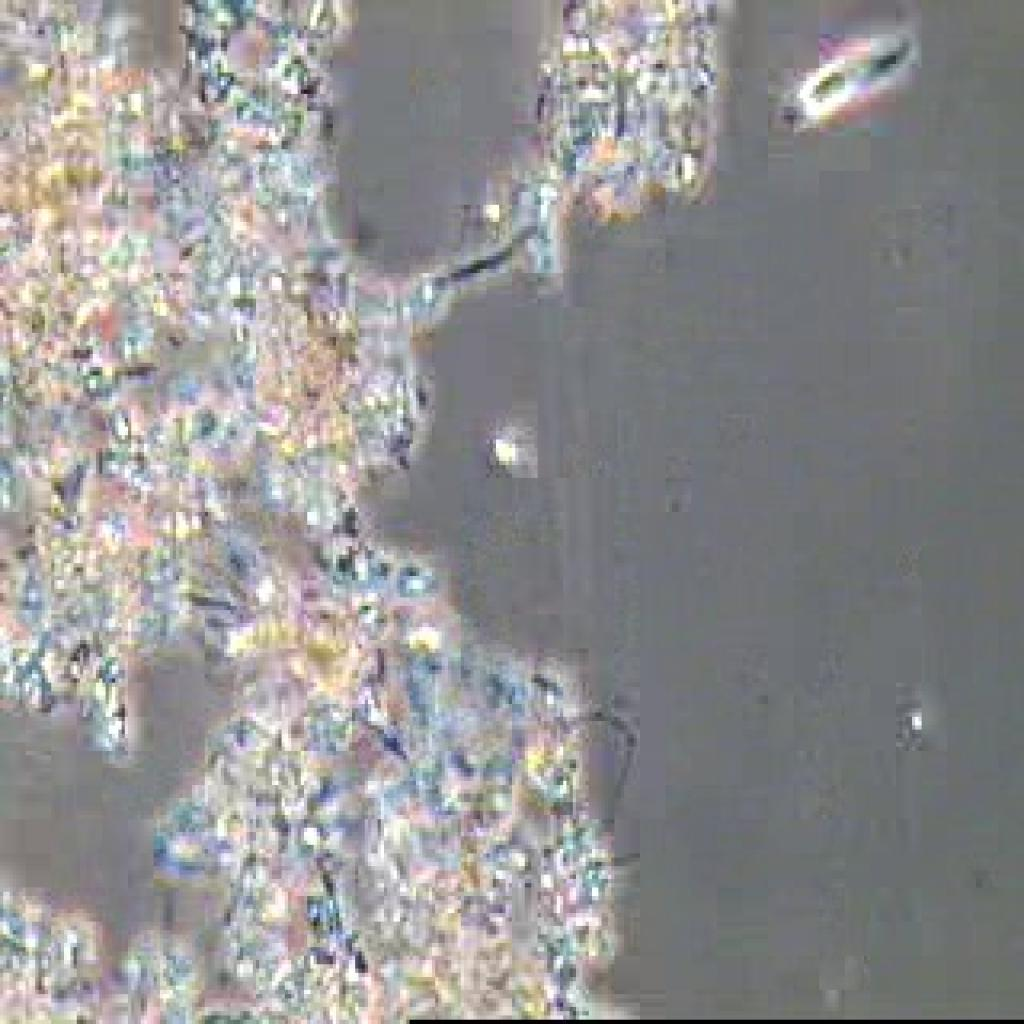Pristina: (765, 22, 960, 120)
